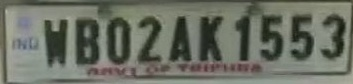character: (318, 12, 346, 60), (43, 17, 69, 67), (74, 15, 99, 66), (258, 12, 283, 61), (289, 11, 314, 60), (105, 17, 131, 64), (136, 15, 162, 62), (197, 13, 222, 60), (167, 15, 191, 62), (233, 14, 250, 61)
